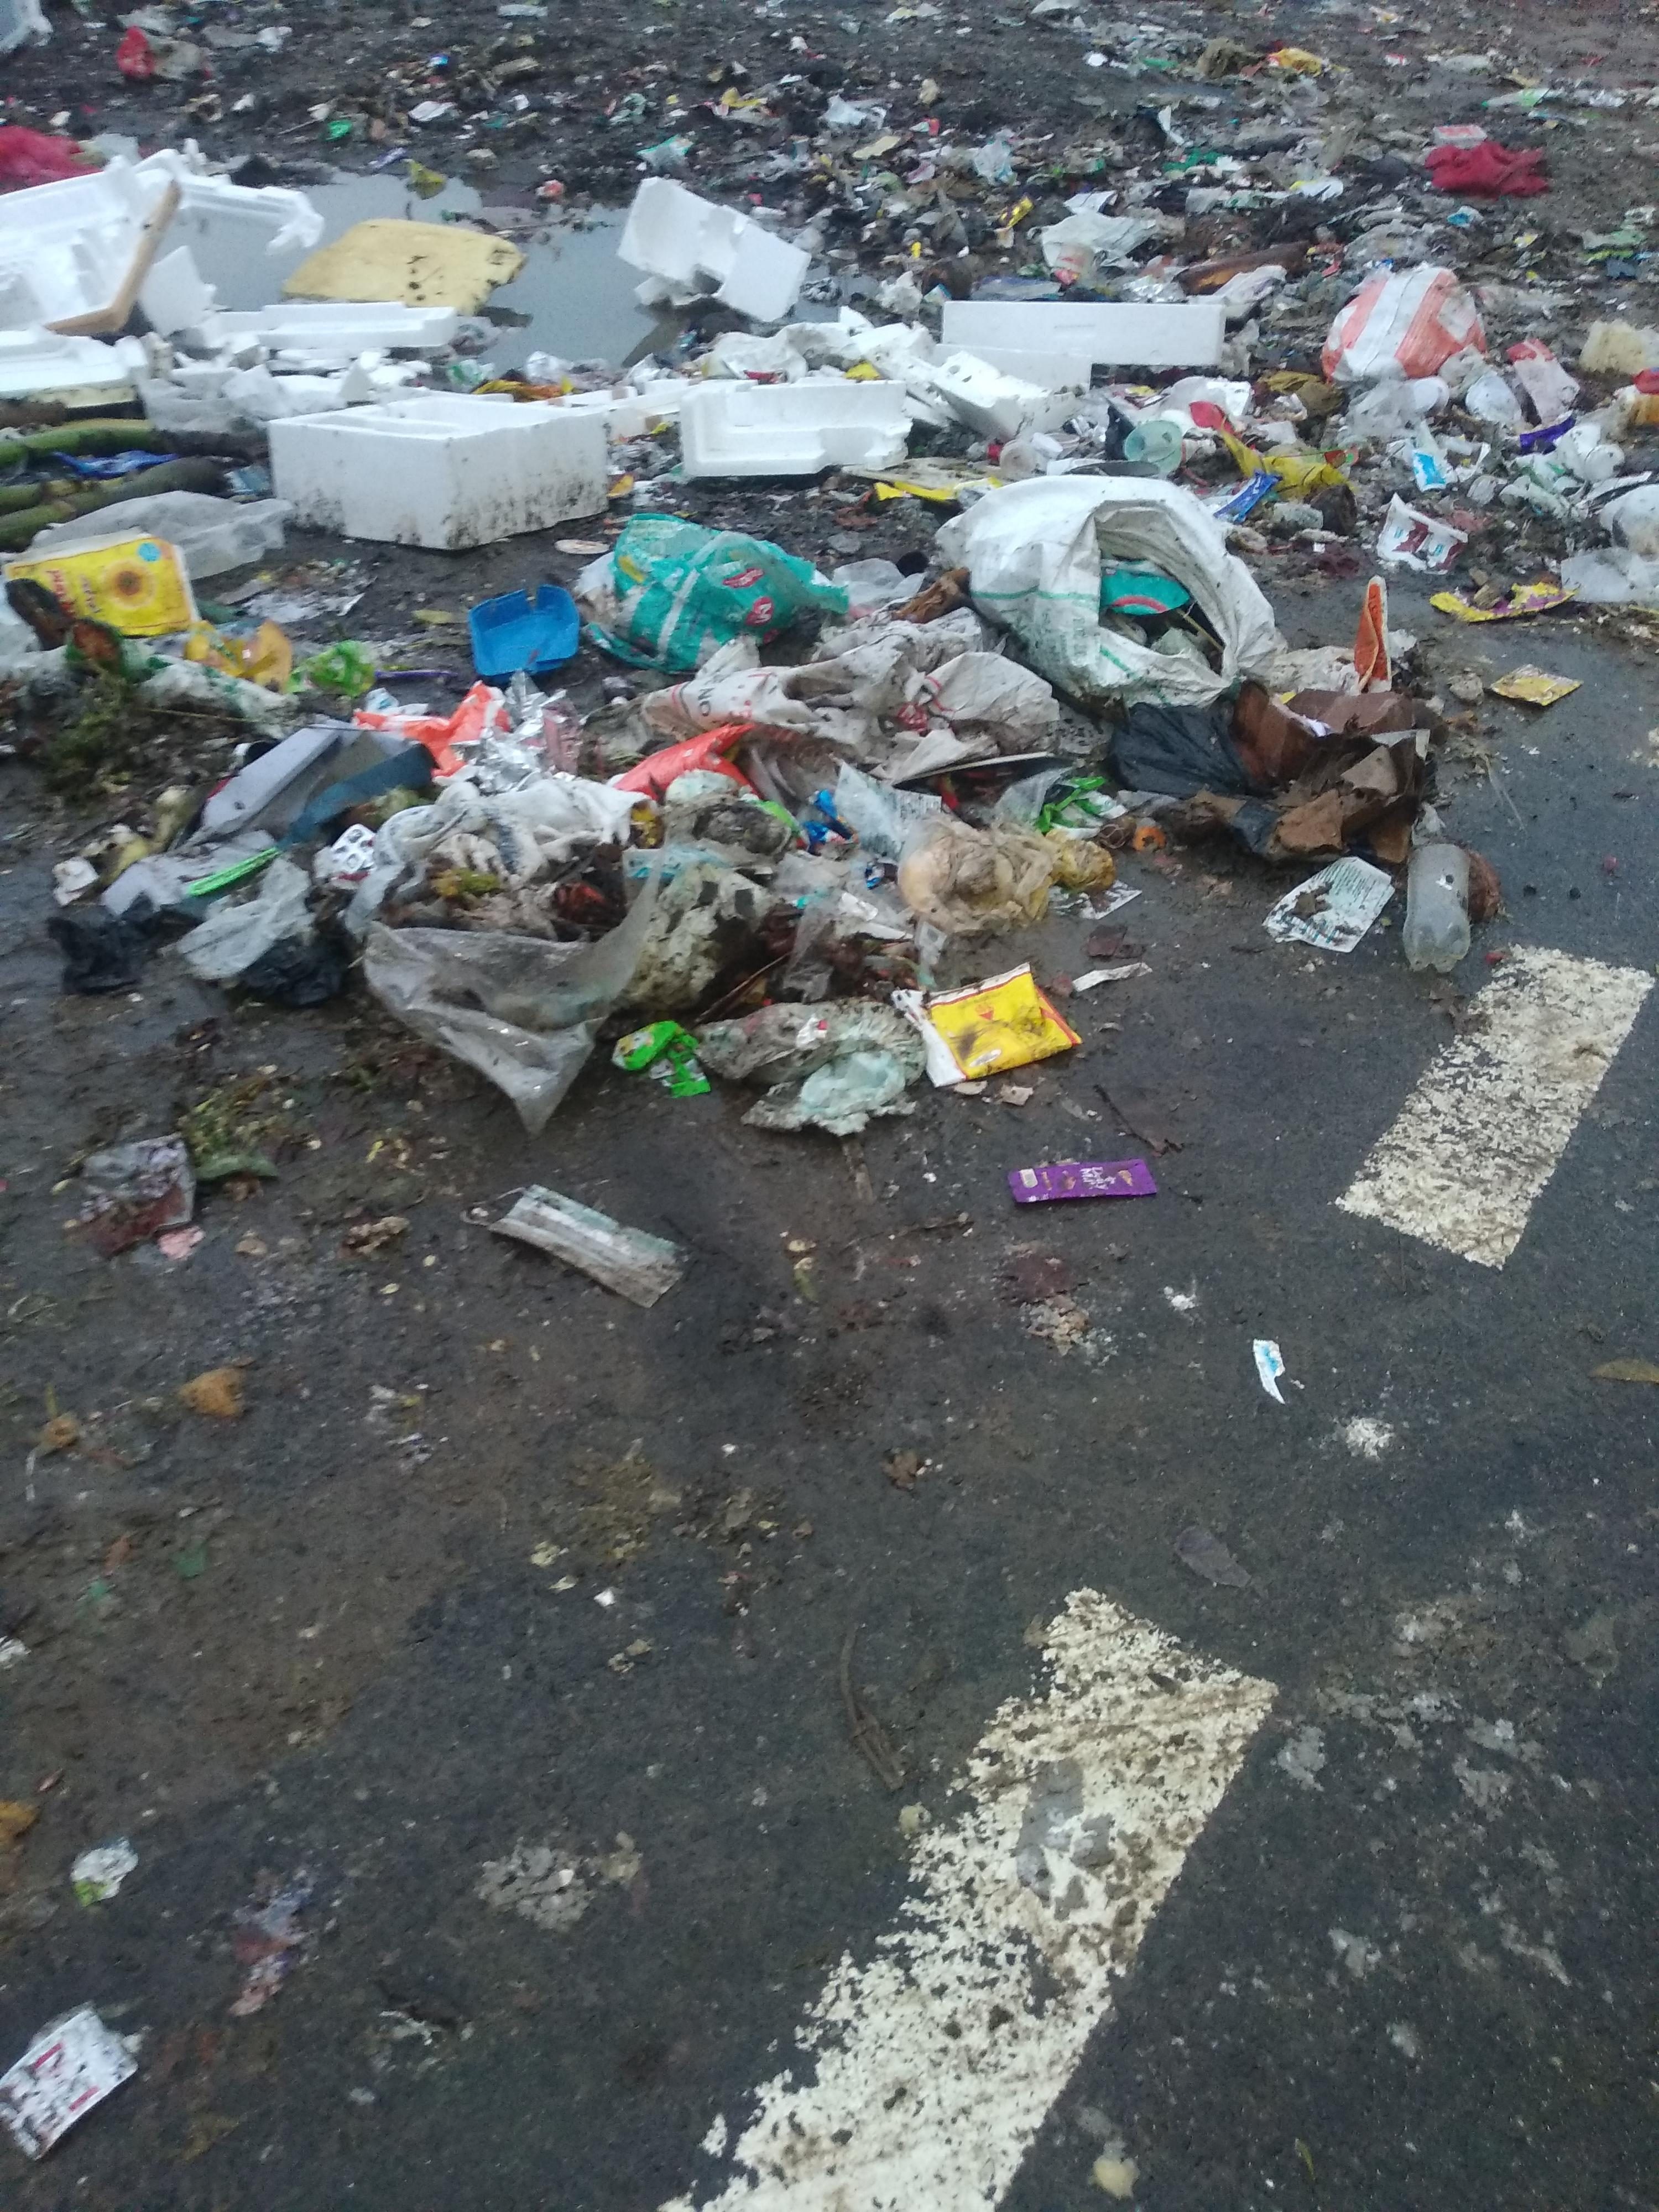organic: (21, 0, 1656, 1310)
